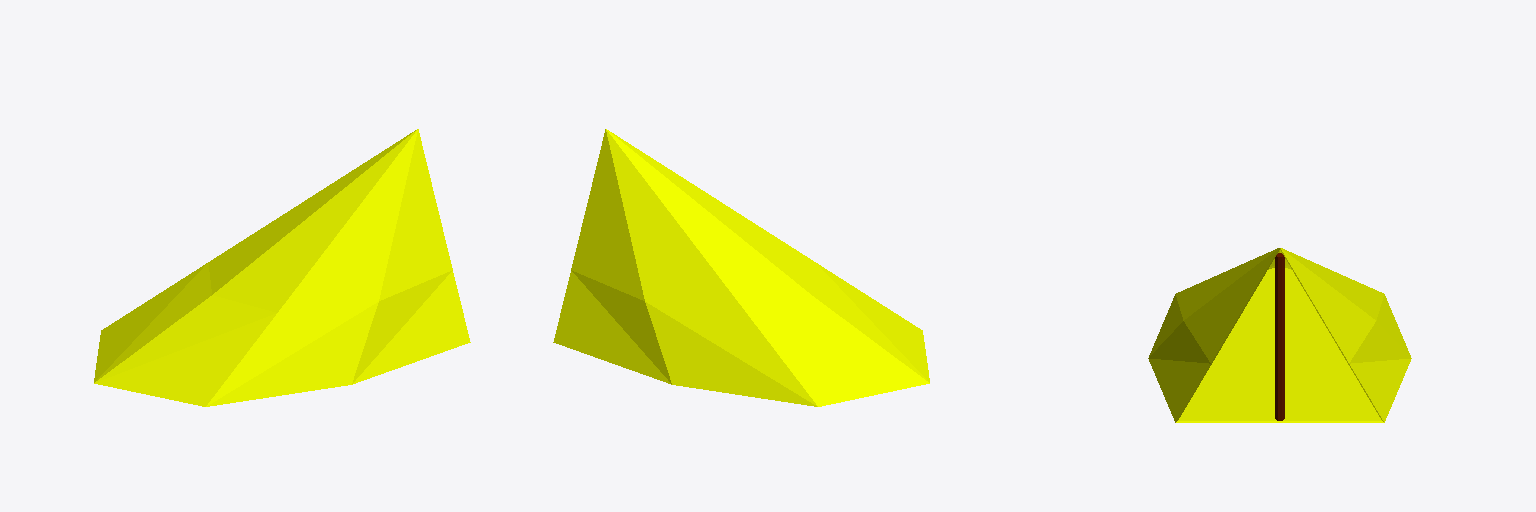
The picture shows the model from 3 angles: view 1: azimuth 30°, elevation 25°; view 2: azimuth 150°, elevation 25°; view 3: azimuth 270°, elevation 25°; orthographic projection.
Parts seen in each view (by area): view 1: Cylinder_Cylinder.001; view 2: Cylinder_Cylinder.001; view 3: Cylinder_Cylinder.001.
Part boxes in pixels (x1,y1,x2,y2): Cylinder_Cylinder.001: (94,129,470,406); Cylinder_Cylinder.001: (553,129,929,406); Cylinder_Cylinder.001: (1148,248,1411,422).
Bounding box in the file's own units: 10.33 × 5.34 × 7.27.
Materials: 1 (1 with a texture image).